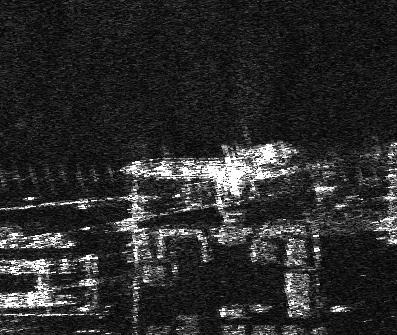ship: (120, 153, 287, 187)
